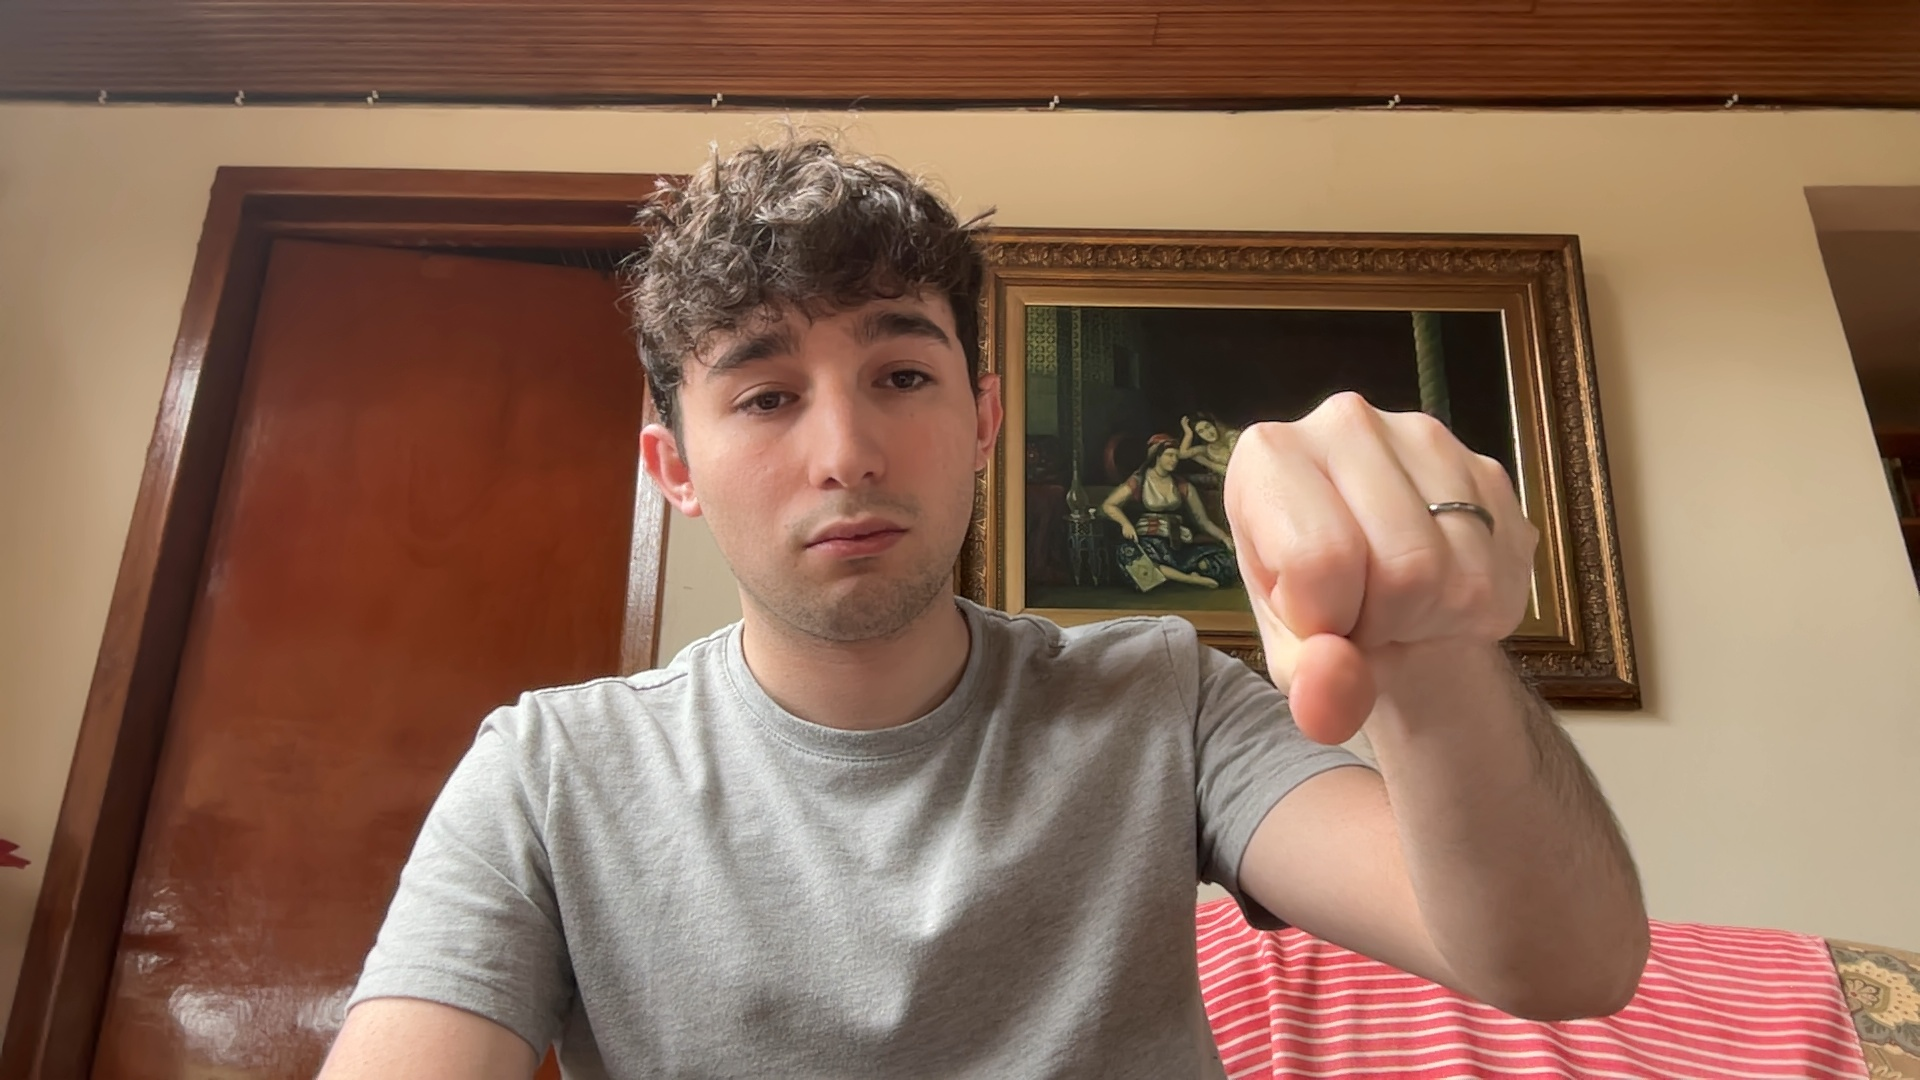Yes: (1208, 382, 1568, 765)
